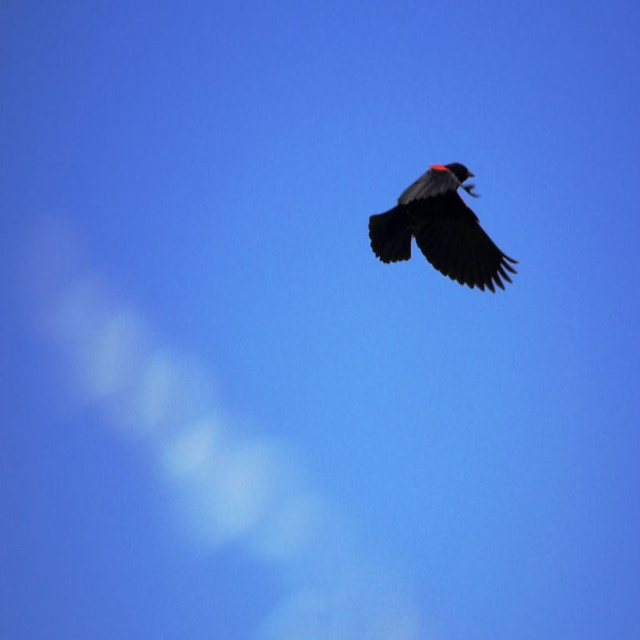Raven: (371, 150, 518, 291)
